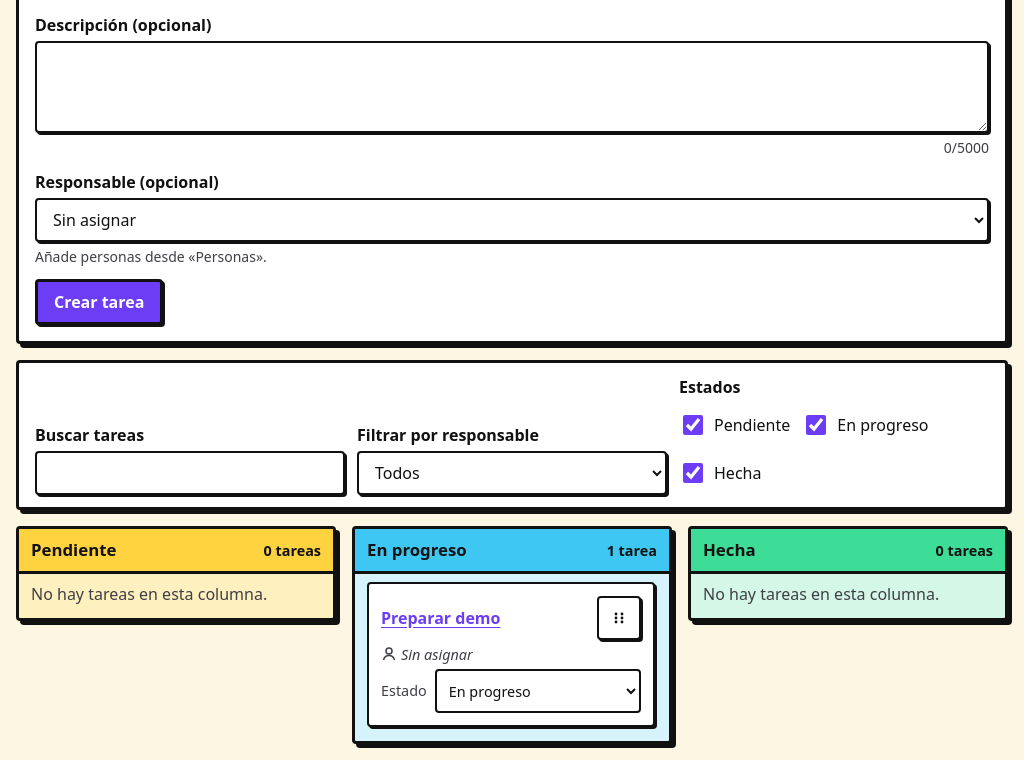
tablero y creación de tareas (US1) › abre el detalle con título, descripción, estado, responsable y fecha de creación
(page scrolled)
Click the button "Preparar demo": coordinates (485, 618) [381,596,589,640]
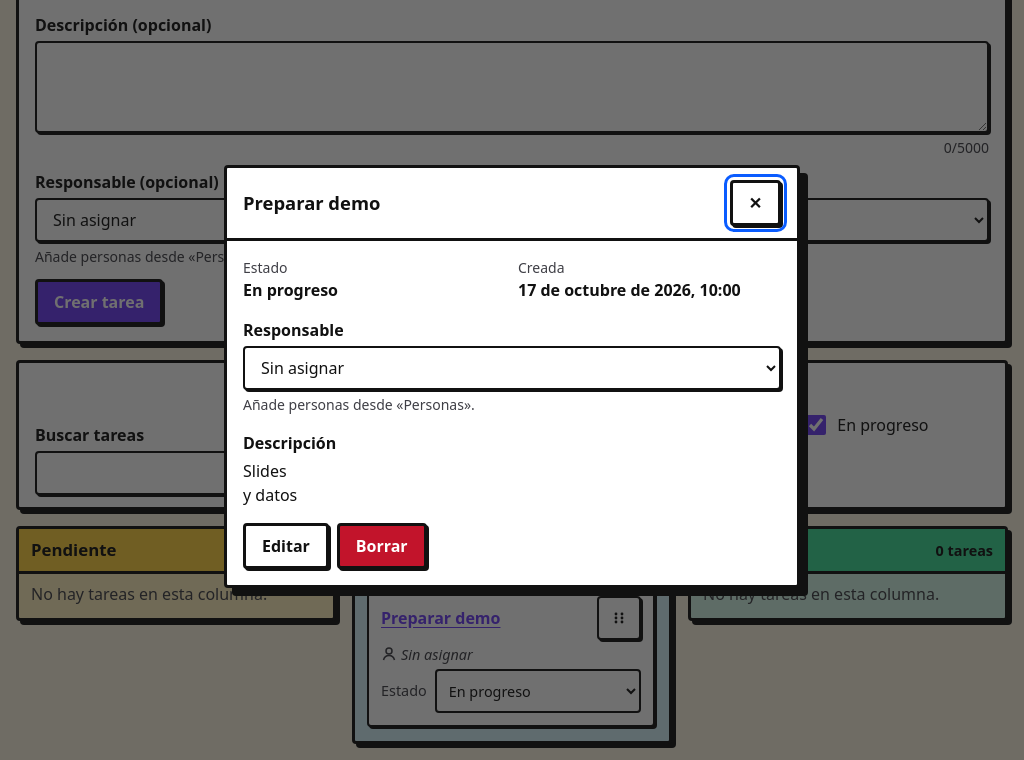
Now the text "Slides y datos" is shown, box [243,460,297,506]
Now the text "En progreso" is shown, box [243,278,338,300]
Now the text "17 de octubre de 2026, 10:00" is shown, box [518,278,741,300]
